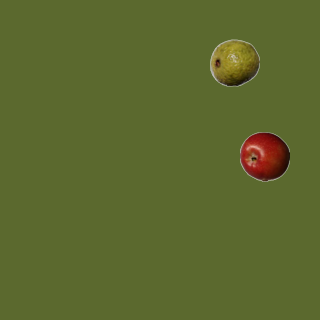Apple Braeburn: (239, 131, 289, 181)
Guava: (209, 37, 259, 87)
